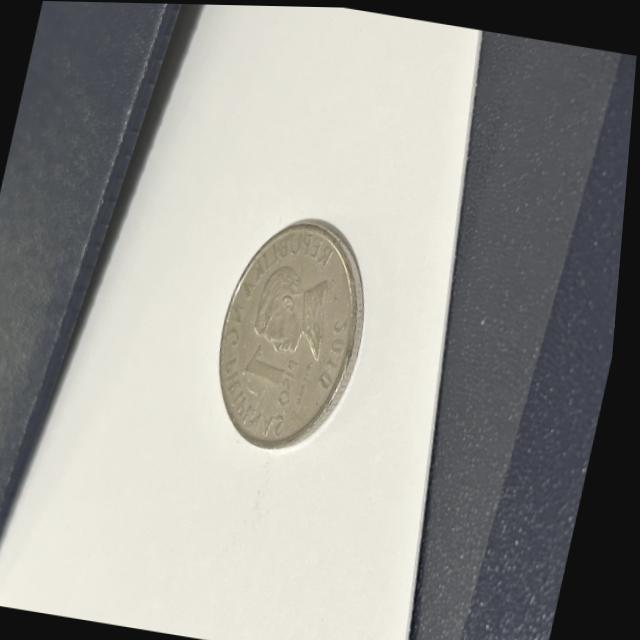1_Old_Front: (240, 330, 320, 411)
